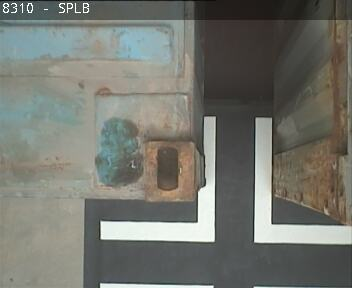groundmarker_1: (99, 118, 352, 244)
